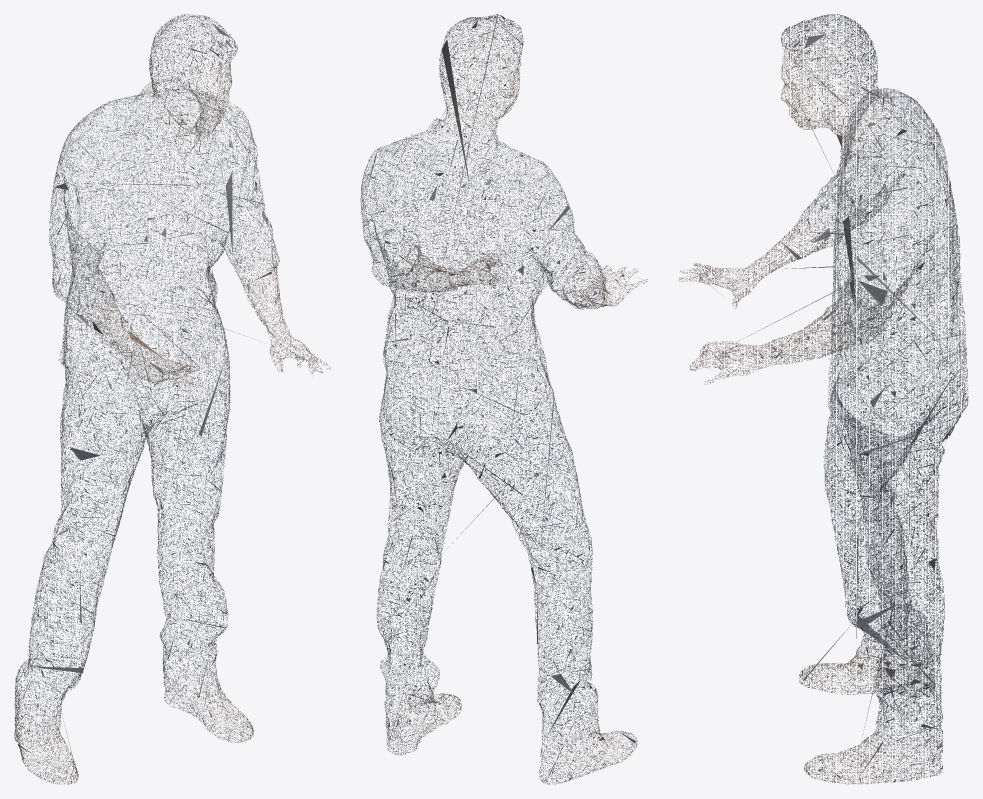
File: loot_vox10_1000.gltf
3 renders of one model, left to right at view 1: azimuth 30°, elevation 25°; view 2: azimuth 150°, elevation 25°; view 3: azimuth 270°, elevation 25°, orthographic. The views are drawn at different scales.
Bounding box in the file's own units: 352 × 992 × 354.
